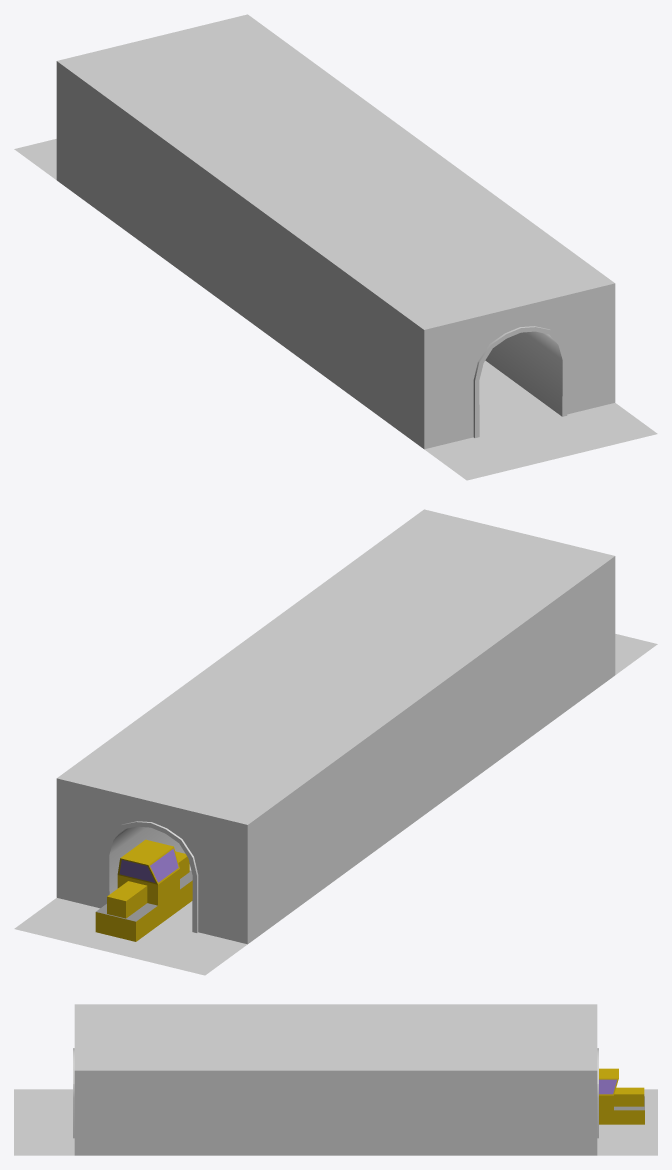
The model's file is tunneltest.fbx.
3 renders of one model, top to bottom at view 1: azimuth 30°, elevation 25°; view 2: azimuth 150°, elevation 25°; view 3: azimuth 270°, elevation 25°, orthographic. The views are drawn at different scales.
Visible parts, largest first — view 1: Tunnel; view 2: Tunnel, Train; view 3: Tunnel, Train.
Part boxes in pixels (x1,y1,x2,y2): Tunnel: [14, 14, 657, 480]; Tunnel: [14, 509, 657, 975]; Train: [95, 839, 192, 941]; Tunnel: [14, 1004, 657, 1155]; Train: [599, 1068, 644, 1124].
Bounding box in the file's own units: 4.14 × 2.47 × 16.99.
